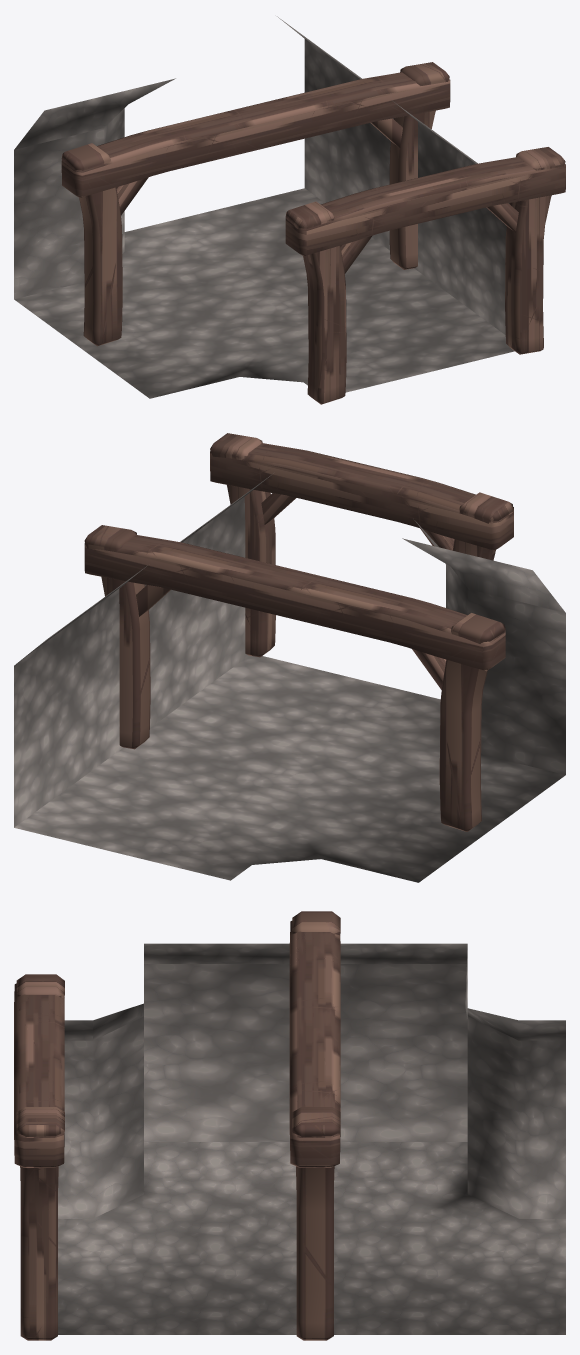
The model's file is SM_mine_module_03.glb.
3 renders of one model, top to bottom at view 1: azimuth 30°, elevation 25°; view 2: azimuth 150°, elevation 25°; view 3: azimuth 270°, elevation 25°, orthographic. The views are drawn at different scales.
Parts seen in each view (by area): view 1: SM_mine_module_03; view 2: SM_mine_module_03; view 3: SM_mine_module_03.
Boxes of the visible parts, <box> form: SM_mine_module_03: <box>14,16,565,404</box>; SM_mine_module_03: <box>14,433,565,882</box>; SM_mine_module_03: <box>14,911,565,1340</box>.
Size of the model in its own units: 10.32 by 5.06 by 11.
Materials: 2 (2 with a texture image).
